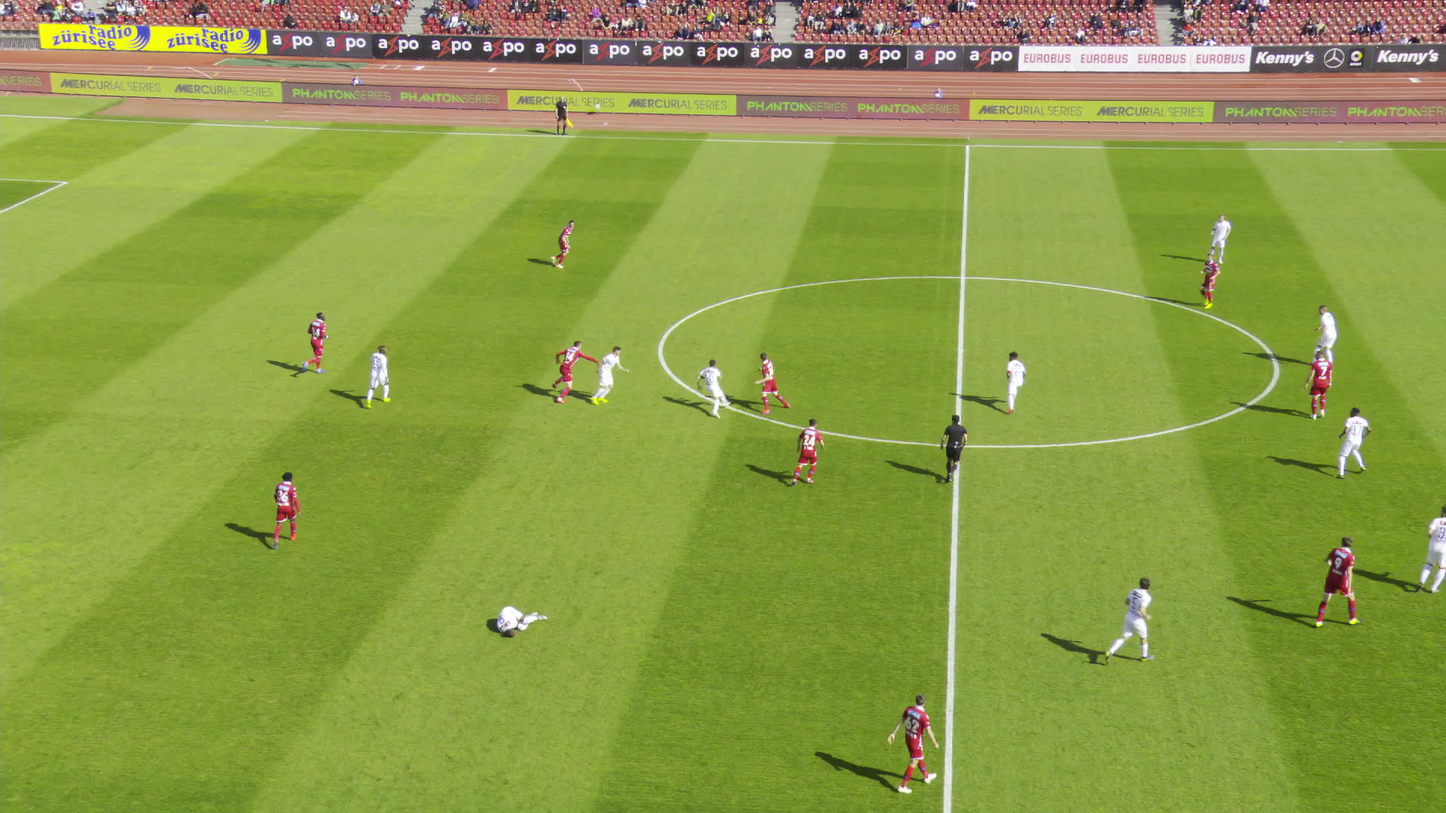ball: (707, 372, 715, 379)
player: (891, 693, 937, 792), (1312, 536, 1359, 627), (1106, 578, 1150, 663), (1416, 504, 1445, 595), (557, 340, 598, 403), (1335, 406, 1370, 478), (792, 417, 825, 486), (275, 471, 303, 549), (754, 352, 789, 413), (1306, 351, 1335, 422), (693, 360, 731, 414), (592, 346, 626, 404), (1310, 304, 1340, 367), (307, 313, 333, 375), (499, 604, 549, 635), (368, 344, 392, 407), (1194, 252, 1219, 308), (550, 218, 578, 268), (1007, 351, 1029, 413), (1210, 214, 1233, 263)
referee: (939, 414, 967, 483), (557, 96, 575, 134)
